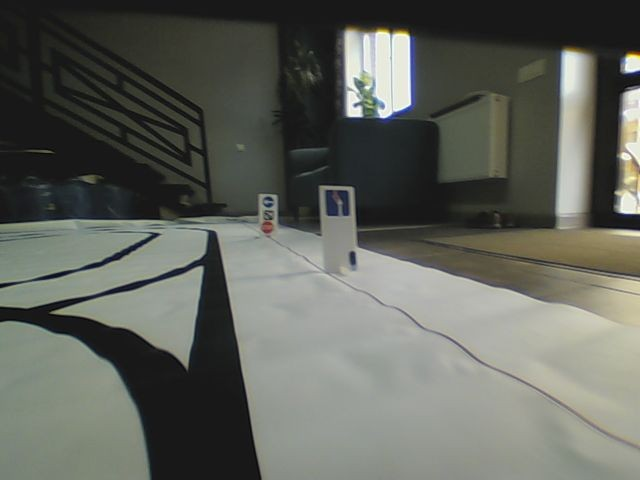priority_movement: (322, 188, 351, 219)
